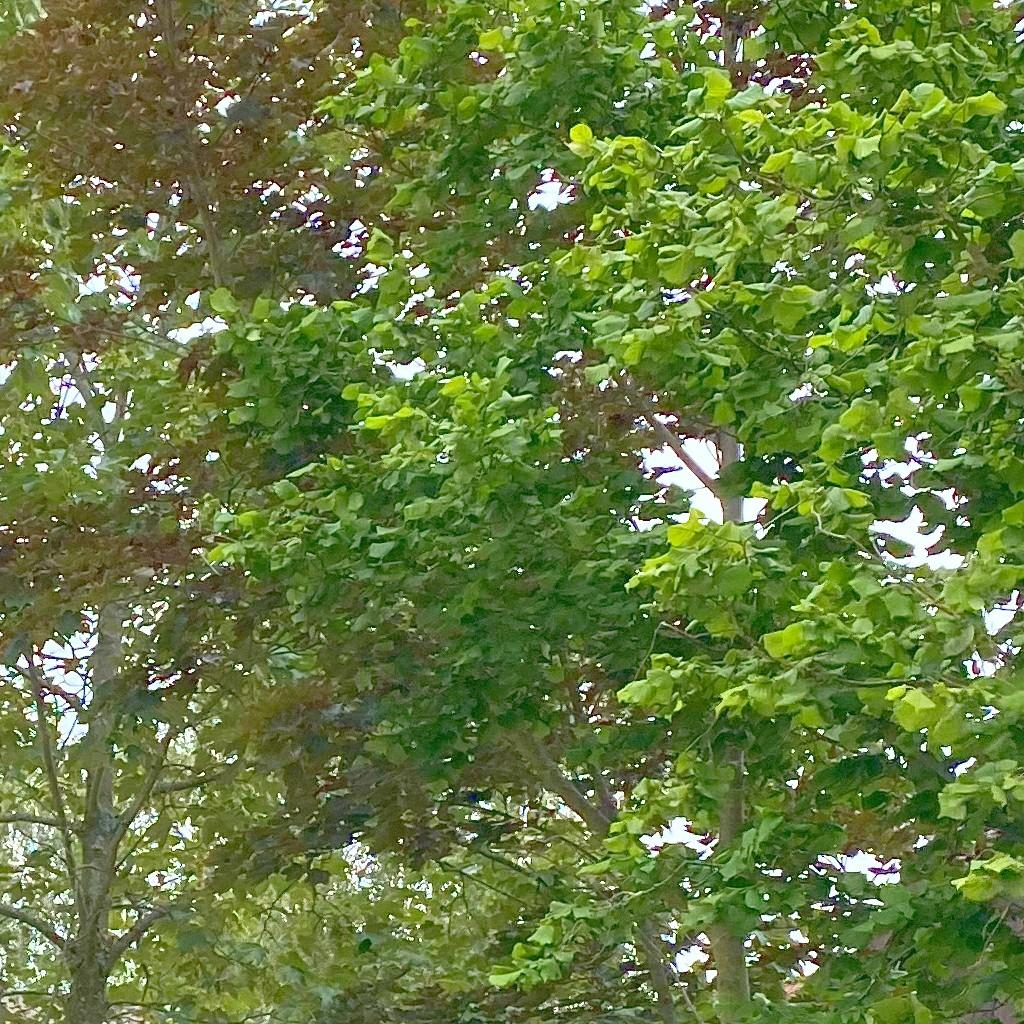tree: (199, 1, 1024, 1024), (199, 1, 1023, 1023), (1, 1, 467, 1023)
